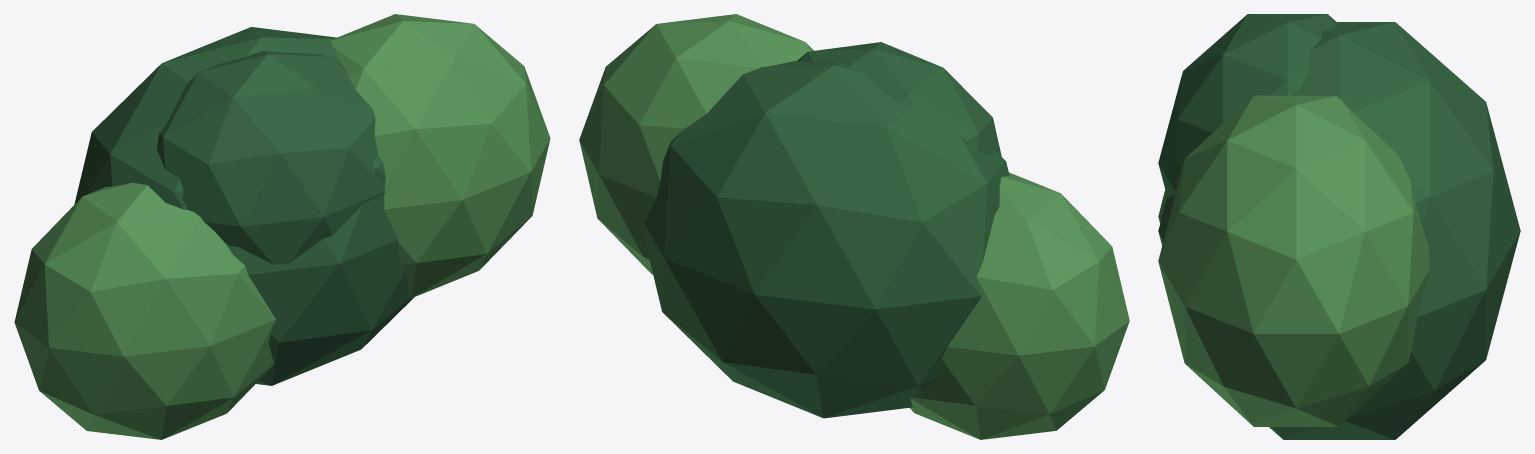
Rendered from bush.glb.
3 views of the same model, side by side, from view 1: azimuth 30°, elevation 25°; view 2: azimuth 150°, elevation 25°; view 3: azimuth 270°, elevation 25° (orthographic). The views are drawn at different scales.
Parts seen in each view (by area): view 1: Bush_Cluster_2, Bush_Cluster_3, Bush_Cluster_4, Bush_Cluster_1; view 2: Bush_Cluster_1, Bush_Cluster_2, Bush_Cluster_3, Bush_Cluster_4; view 3: Bush_Cluster_3, Bush_Cluster_1, Bush_Cluster_4.
Part boxes in pixels (left/top/right/bottom): Bush_Cluster_2: left=14, top=182, right=275, bottom=439; Bush_Cluster_3: left=331, top=14, right=550, bottom=298; Bush_Cluster_4: left=157, top=50, right=385, bottom=264; Bush_Cluster_1: left=74, top=27, right=414, bottom=385; Bush_Cluster_1: left=644, top=60, right=1009, bottom=418; Bush_Cluster_2: left=909, top=172, right=1129, bottom=439; Bush_Cluster_3: left=579, top=14, right=813, bottom=274; Bush_Cluster_4: left=797, top=42, right=1001, bottom=156; Bush_Cluster_3: left=1158, top=95, right=1429, bottom=426; Bush_Cluster_1: left=1158, top=22, right=1520, bottom=439; Bush_Cluster_4: left=1158, top=14, right=1338, bottom=198.
Bounding box in the file's own units: 1.56 × 1.04 × 0.84.
